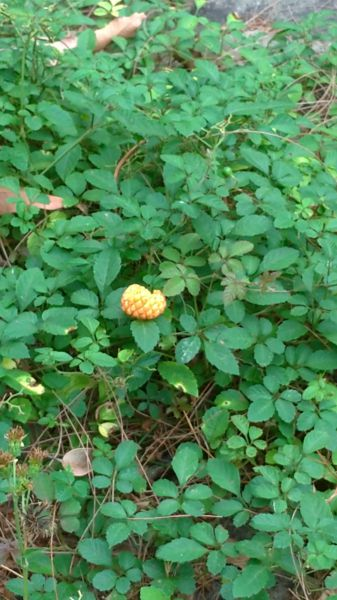eggs: (116, 278, 173, 326)
